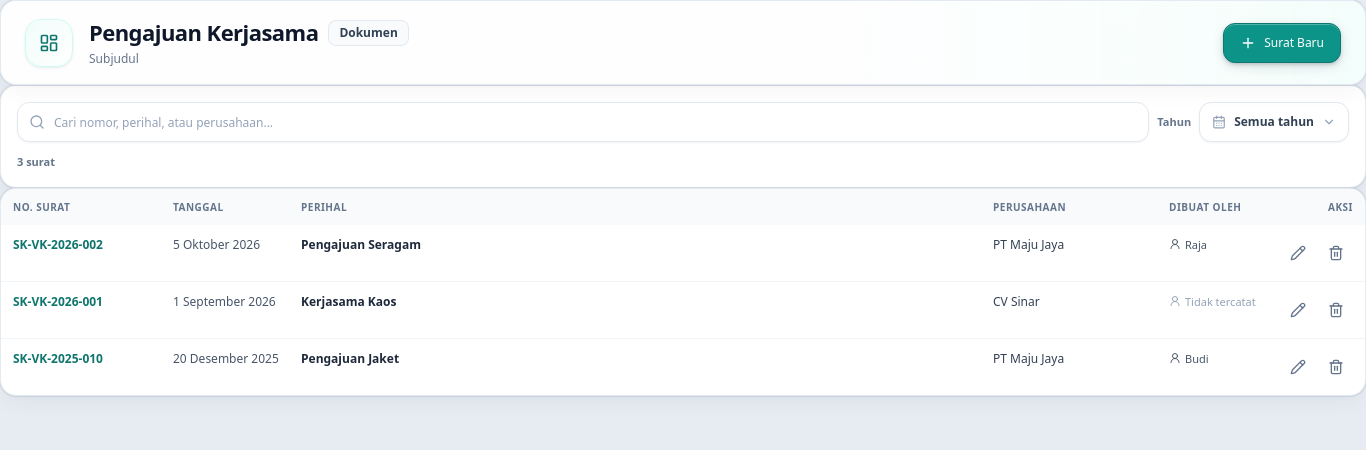
it: LetterListView › menampilkan keadaan kosong saat tidak ada yang cocok dan reset filter memulihkan daftar
The image size is (1366, 450).
Type "tidak-ada" into the field named "Cari surat". click: (583, 122)
box: [17, 102, 1149, 142]
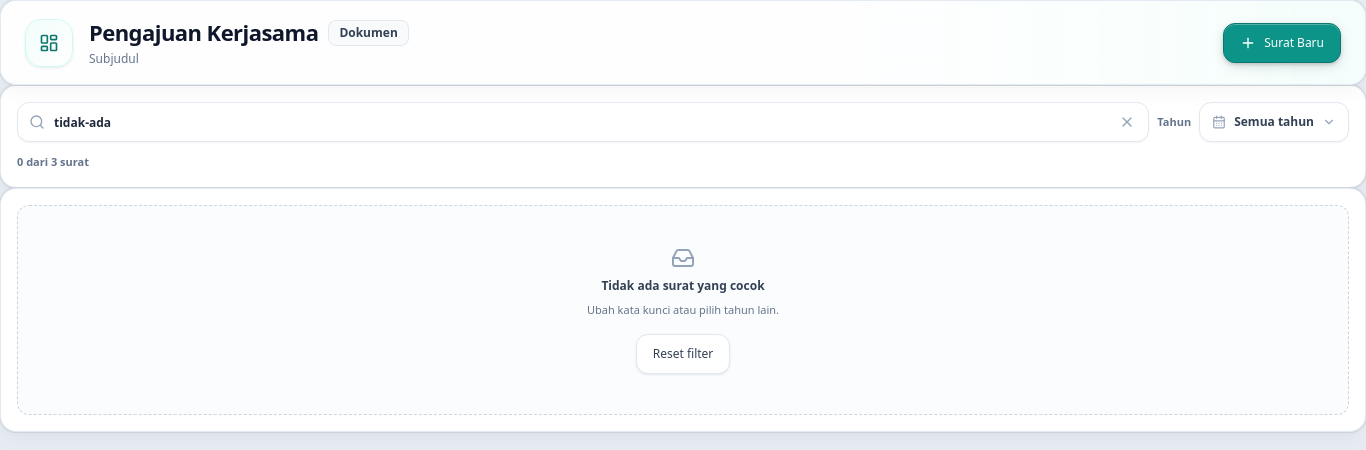
Expected: the text "Tidak ada surat yang cocok" is shown, [601, 278, 765, 294]
Click the button "Reset filter". click: (683, 354)
box: [636, 334, 730, 374]
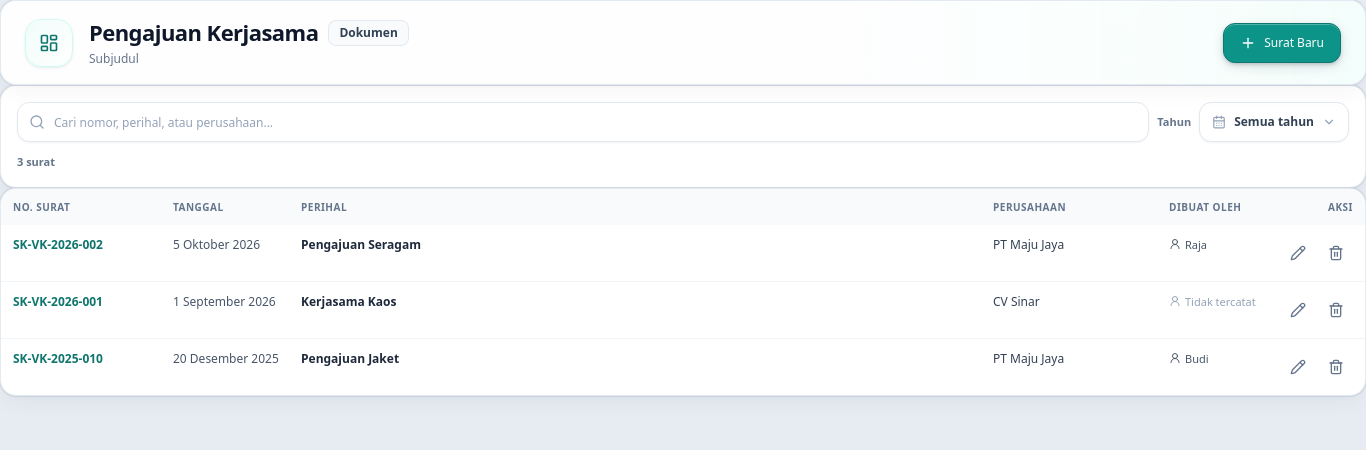
Expected: the link "SK-VK-2026-002" is shown, [13, 236, 103, 252]
